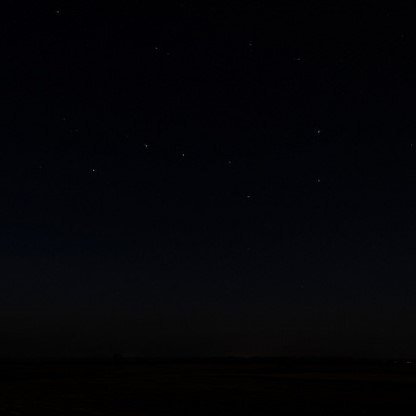Ursa Major: (220, 148, 242, 170), (135, 134, 158, 154), (310, 170, 331, 189), (238, 187, 257, 205), (83, 160, 100, 180), (310, 125, 330, 140), (172, 145, 188, 162)
